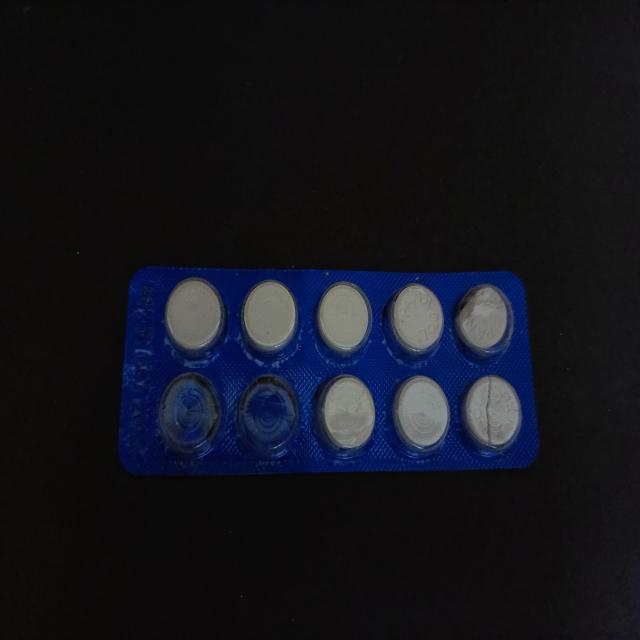defect: (234, 371, 304, 463), (155, 368, 224, 461), (450, 279, 517, 367), (459, 370, 523, 458)
